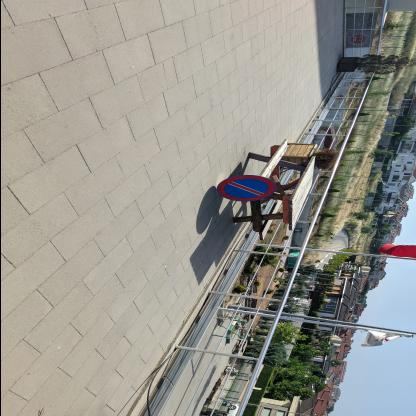No Waiting: (217, 177, 277, 203)
